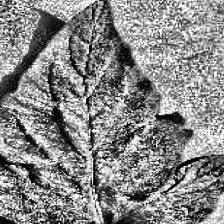Blossom Blight: (37, 150, 80, 187), (172, 161, 222, 192), (93, 93, 141, 125), (58, 52, 92, 88)
